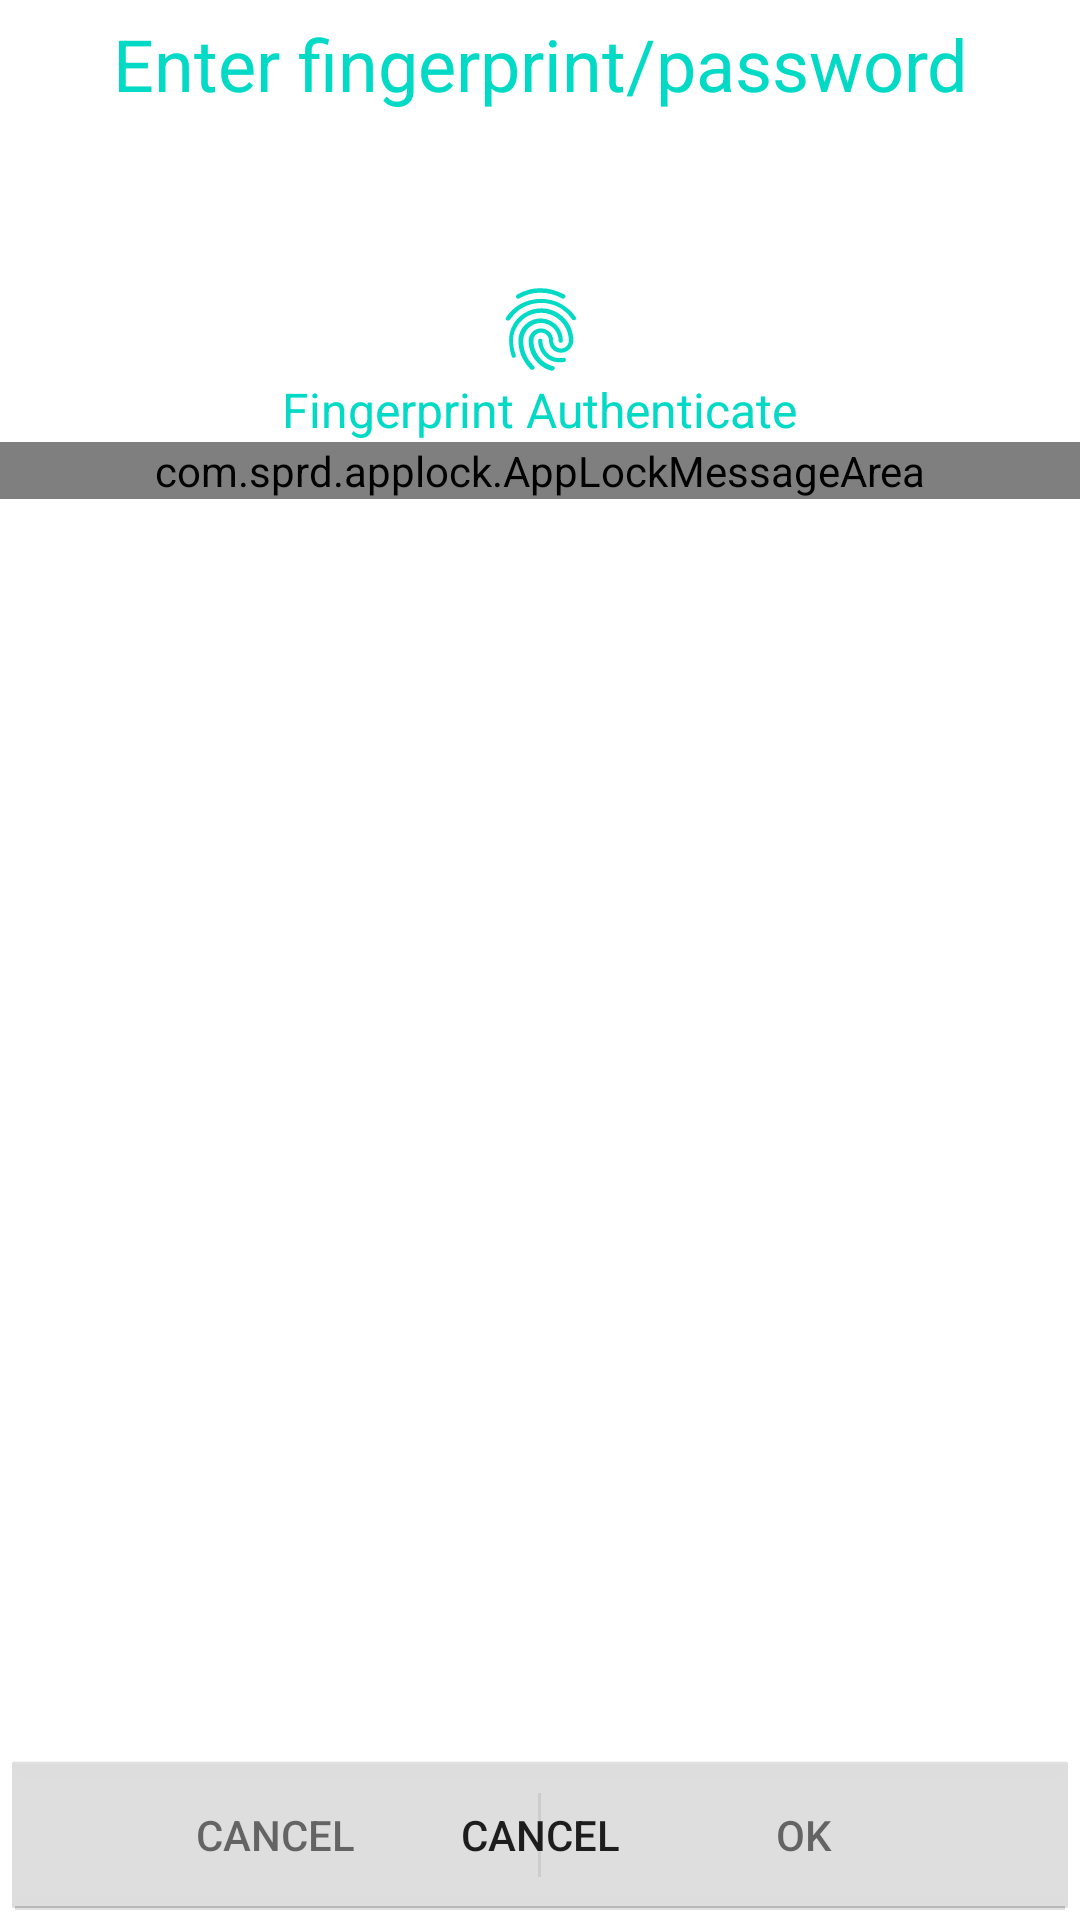

Icons on this 1080×1920 Android screen, each with the point to tap as (x,y):
Please identify finger: (540,329)
